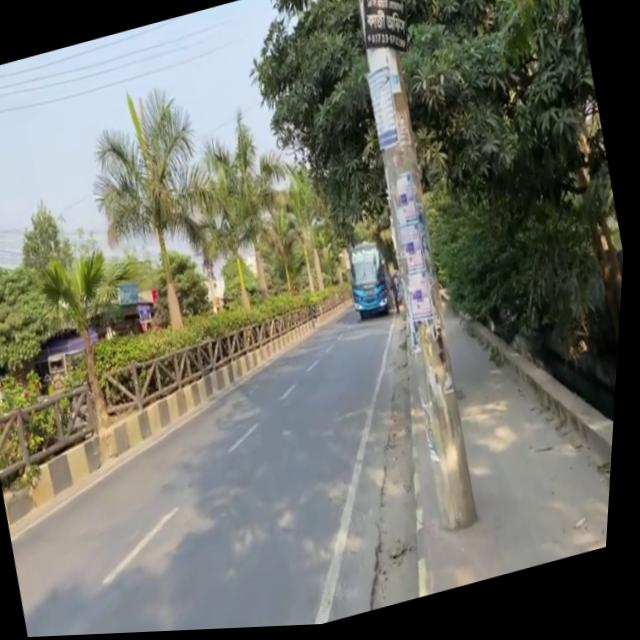Construction-barrier: (324, 299, 507, 613)
Light-pole: (311, 0, 527, 552)
Pothole: (359, 240, 628, 602)
Traffic-cone: (341, 238, 404, 327)
